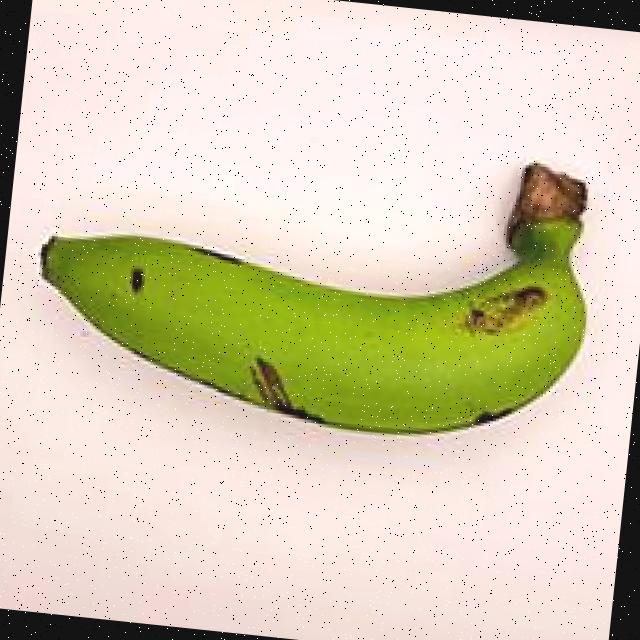Raw: (7, 81, 619, 504)
